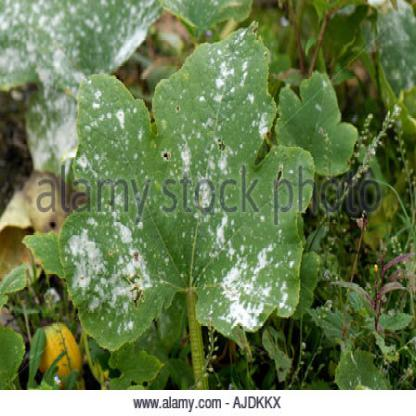squash powdery mildew leaf: (56, 3, 318, 352)
